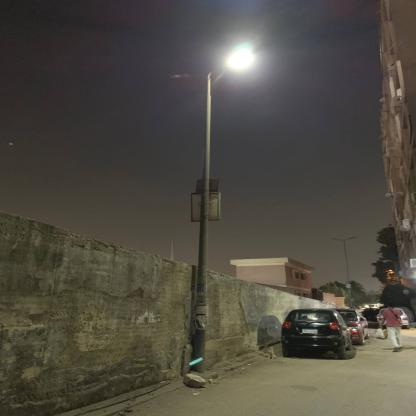light_pole: (190, 53, 250, 371)
